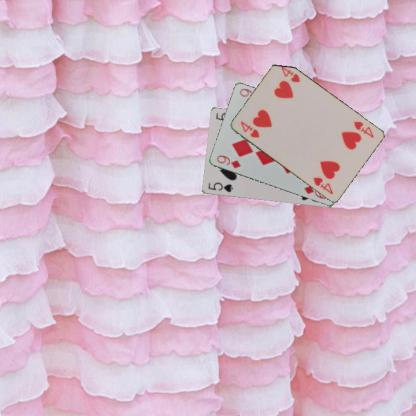4h: (351, 118, 375, 140), (238, 118, 260, 140)
5s: (206, 180, 234, 194)
9d: (214, 152, 241, 170)
